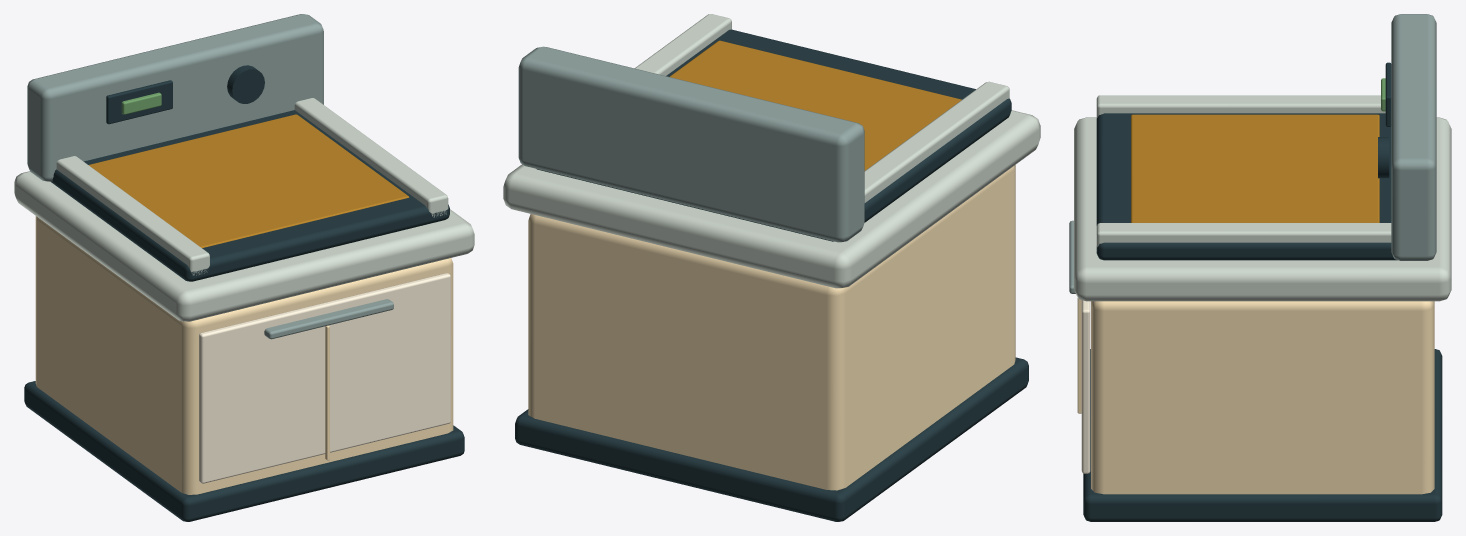
File: fryer.glb
The picture shows the model from 3 angles, left to right: view 1: azimuth 30°, elevation 25°; view 2: azimuth 150°, elevation 25°; view 3: azimuth 270°, elevation 25°; orthographic projection. The views are drawn at different scales.
Visible parts, largest first — view 1: fryer; view 2: fryer; view 3: fryer.
Boxes of the visible parts, box(x1,y1,x2,y2) form: fryer: box(14, 14, 474, 521); fryer: box(503, 14, 1040, 521); fryer: box(1069, 14, 1451, 521).
Size of the model in its own units: 1 by 1.06 by 1.01.
